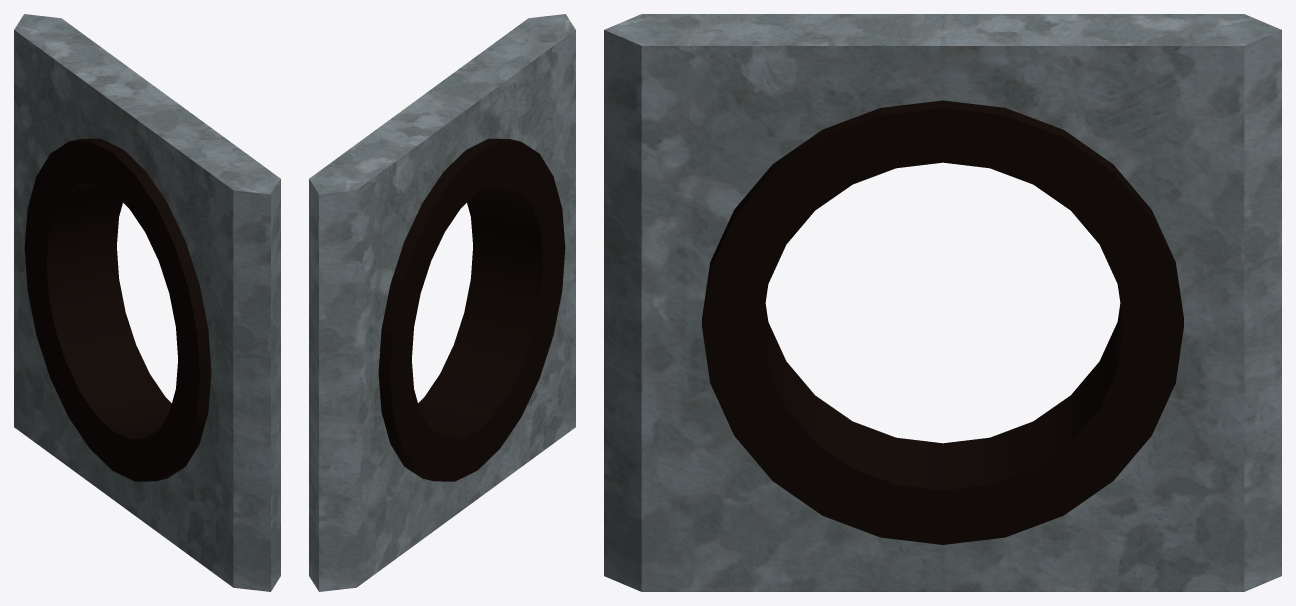
Rendered from window_round.fbx.
3 views of the same model, side by side, from view 1: azimuth 30°, elevation 25°; view 2: azimuth 150°, elevation 25°; view 3: azimuth 270°, elevation 25° (orthographic). The views are drawn at different scales.
Visible parts, largest first — view 1: window_round; view 2: window_round; view 3: window_round.
Part boxes in pixels (box(x1,y1,x2,y2)): window_round: box(14, 14, 280, 591); window_round: box(309, 14, 575, 591); window_round: box(604, 14, 1281, 591).
Bounding box in the file's own units: 1.85 × 10 × 11.25.
Materials: 2 (1 with a texture image).
